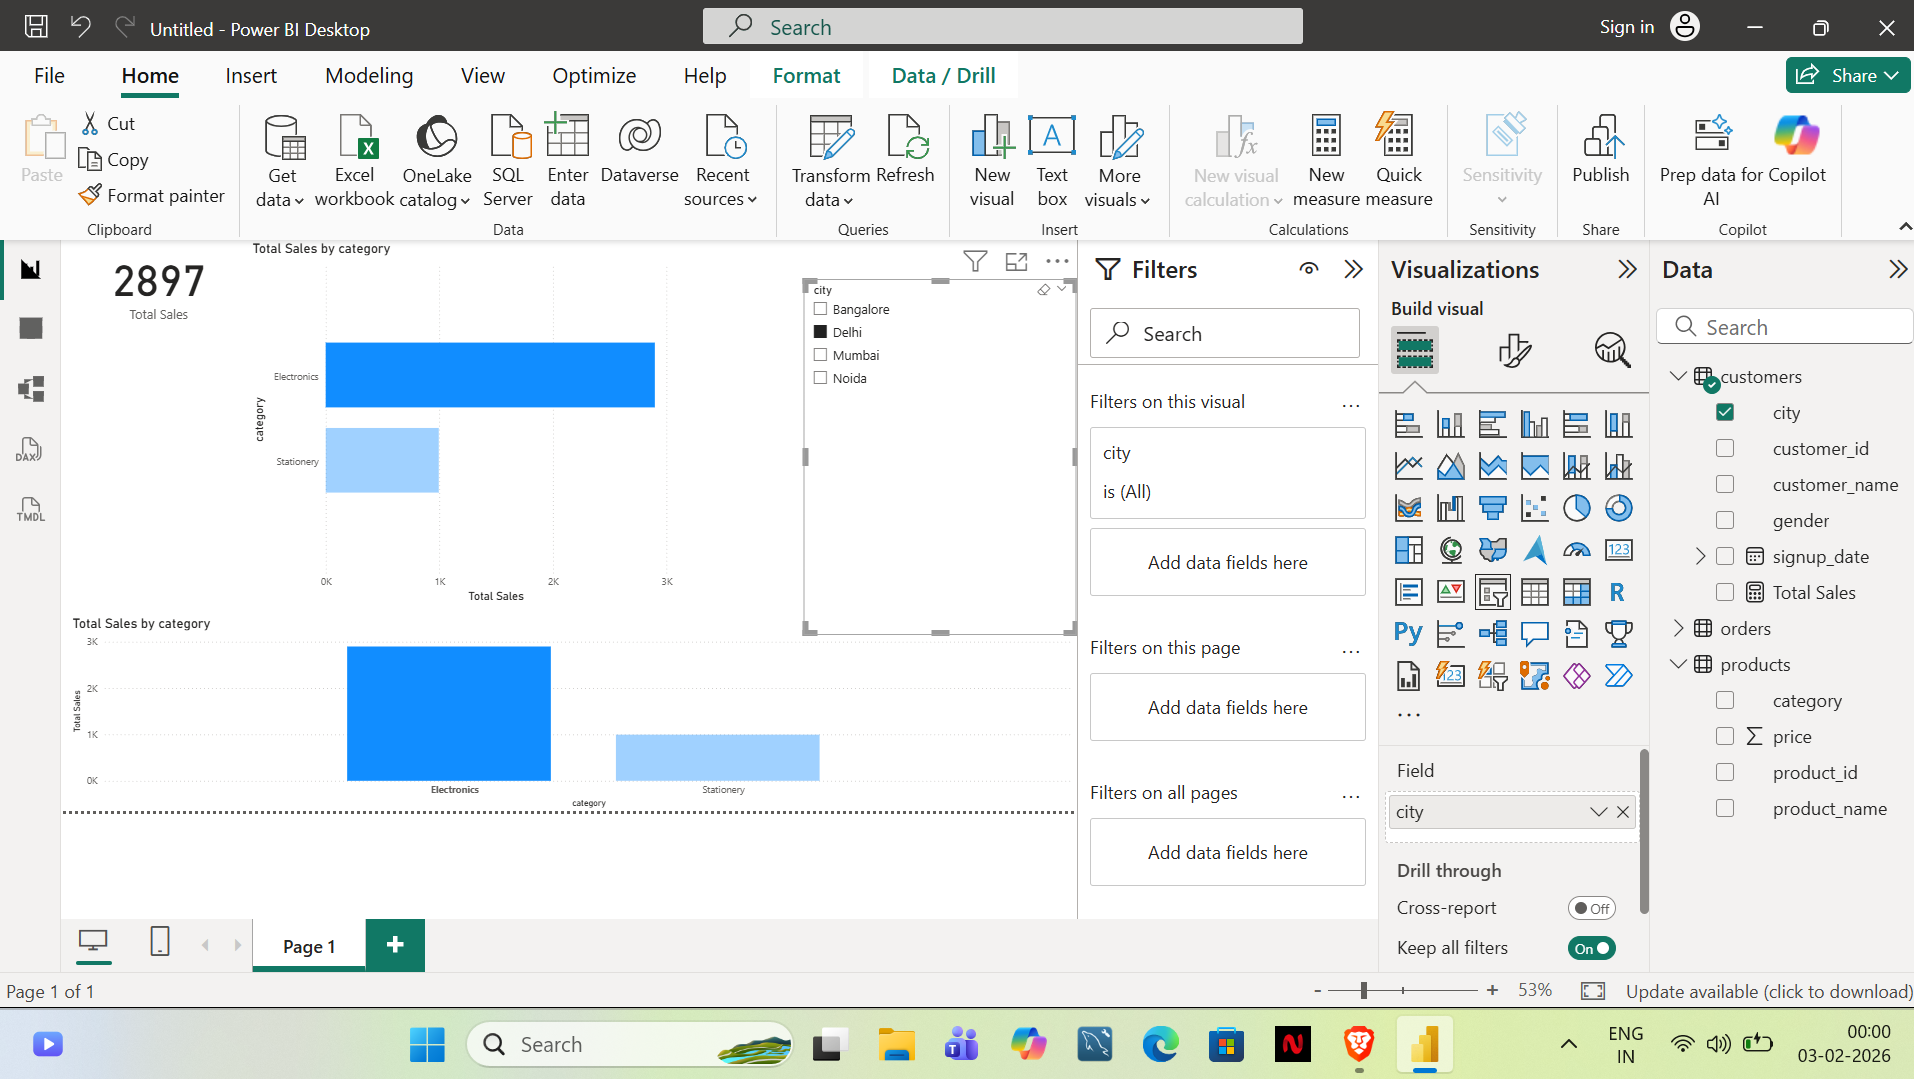

This screenshot's page, from the dashboard's own definition file:
{"tool":"powerbi","page":{"name":"Page 1","canvas":[1280,720],"ordinal":0},"visuals":[{"type":"card","fields":{"Values":["customers.Total Sales"]},"box":[9.4,0,226.8,109.6],"z":0},{"type":"barChart","fields":{"Category":["products.category"],"Y":["customers.Total Sales"]},"box":[236.2,0,544.3,461.1],"z":1000},{"type":"clusteredColumnChart","fields":{"Category":["products.category"],"Y":["customers.Total Sales"]},"box":[9.4,472.4,1269.9,247.6],"z":1001},{"type":"slicer","fields":{"Values":["customers.city"]},"box":[935.4,49.1,343.9,447.9],"z":1002}]}

Visuals, with their boxes on the page's 1280x720 design canvas (x1, y1, x2, y2). These are canvas units, not pixel positions in the 1914x1079 screenshot, which may show the page scaled, cropped or inside an application window:
card - customers.Total Sales: bbox=(9, 0, 236, 110)
barChart - products.category x customers.Total Sales: bbox=(236, 0, 780, 461)
clusteredColumnChart - products.category x customers.Total Sales: bbox=(9, 472, 1279, 720)
slicer - customers.city: bbox=(935, 49, 1279, 497)
